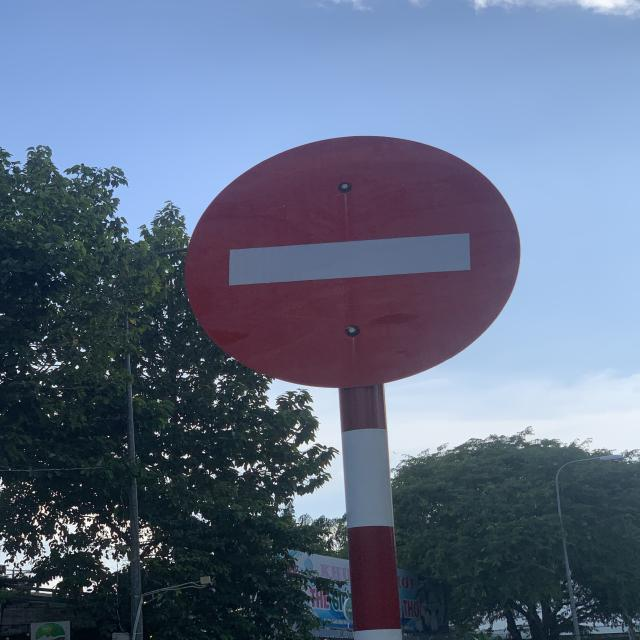Cam_Di_Nguoc_Chieu: (180, 135, 528, 386)
